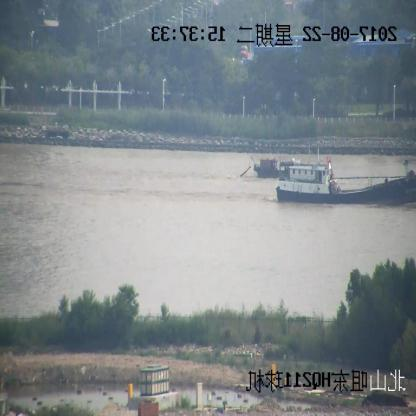Fishing Boat: (275, 159, 416, 204), (240, 160, 288, 179)
